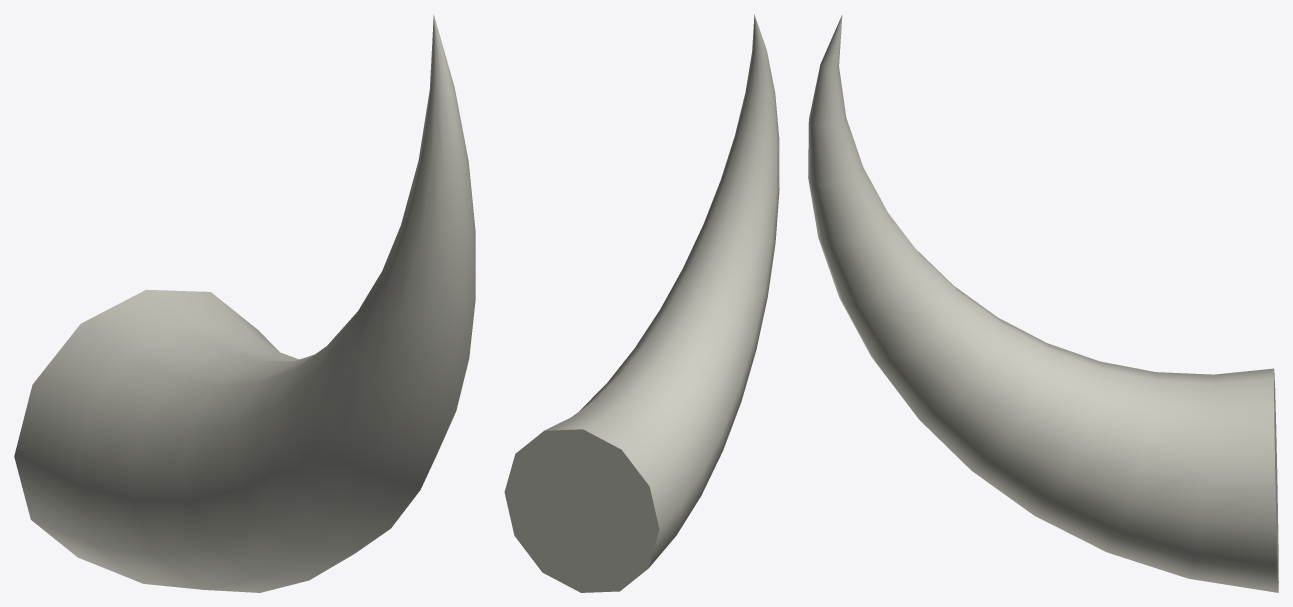
Rendered from cuernolow.obj.
3 renders of one model, left to right at view 1: azimuth 30°, elevation 25°; view 2: azimuth 150°, elevation 25°; view 3: azimuth 270°, elevation 25°, orthographic. The views are drawn at different scales.
Parts seen in each view (by area): view 1: BezierCurve; view 2: BezierCurve; view 3: BezierCurve.
Boxes of the visible parts, x1=… form: BezierCurve: x1=14, y1=14, x2=475, y2=592; BezierCurve: x1=504, y1=14, x2=779, y2=592; BezierCurve: x1=808, y1=15, x2=1278, y2=592.
Bounding box in the file's own units: 1.88 × 5.23 × 3.92.
